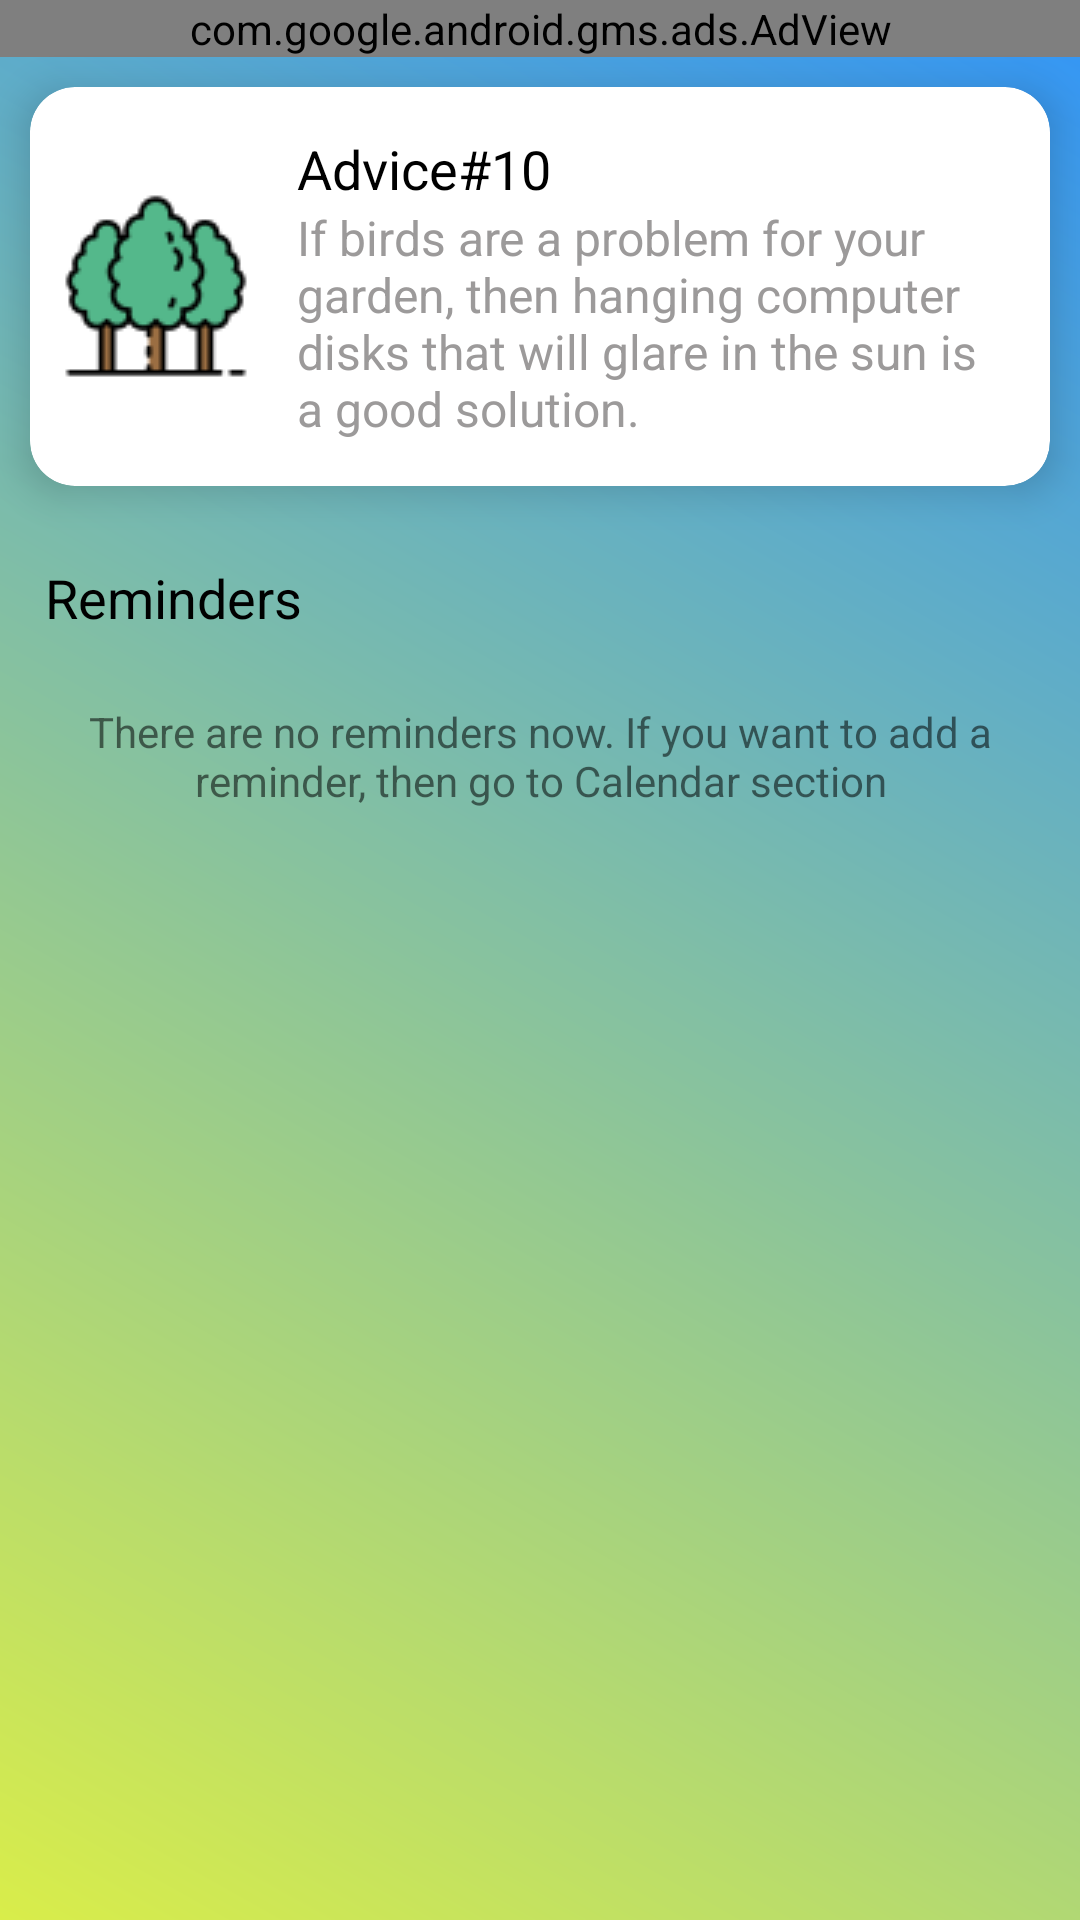

Screen size 1080px×1920px. Icon name, then its box in pixels as (x1, y1, x2, y2):
forest advice: (65, 195, 247, 377)
